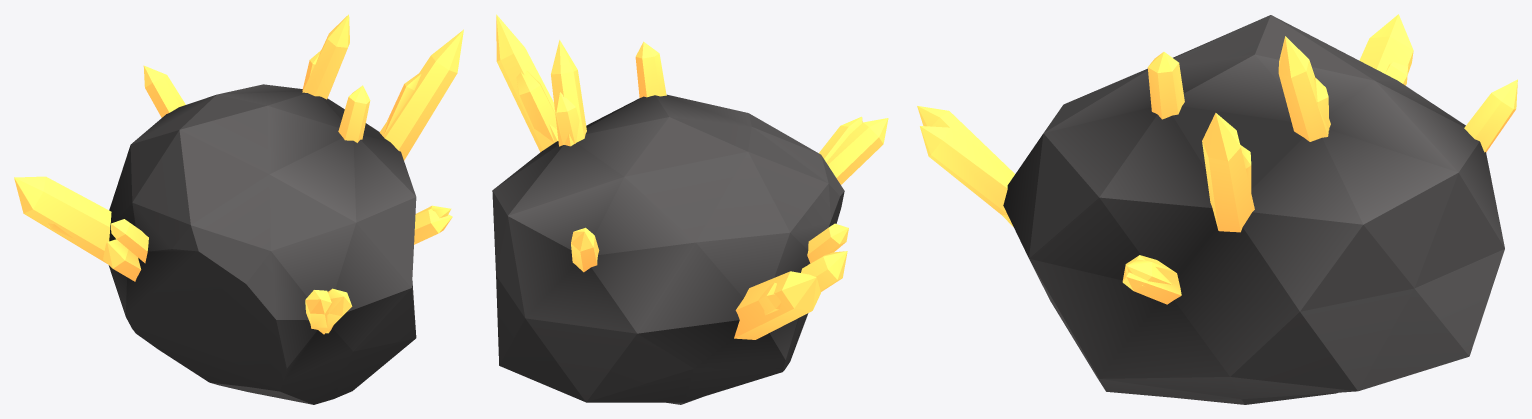
The model's file is obj_cristal_grande_2.glb.
The picture shows the model from 3 angles, left to right: view 1: azimuth 30°, elevation 25°; view 2: azimuth 150°, elevation 25°; view 3: azimuth 270°, elevation 25°; orthographic projection. The views are drawn at different scales.
Visible parts, largest first — view 1: propforge-libre-cristal_grande; view 2: propforge-libre-cristal_grande; view 3: propforge-libre-cristal_grande.
Part boxes in pixels (x1=…): propforge-libre-cristal_grande: x1=14, y1=14, x2=463, y2=404; propforge-libre-cristal_grande: x1=492, y1=14, x2=888, y2=404; propforge-libre-cristal_grande: x1=917, y1=14, x2=1517, y2=404.
Size of the model in its own units: 1.48 by 1.16 by 1.59.
